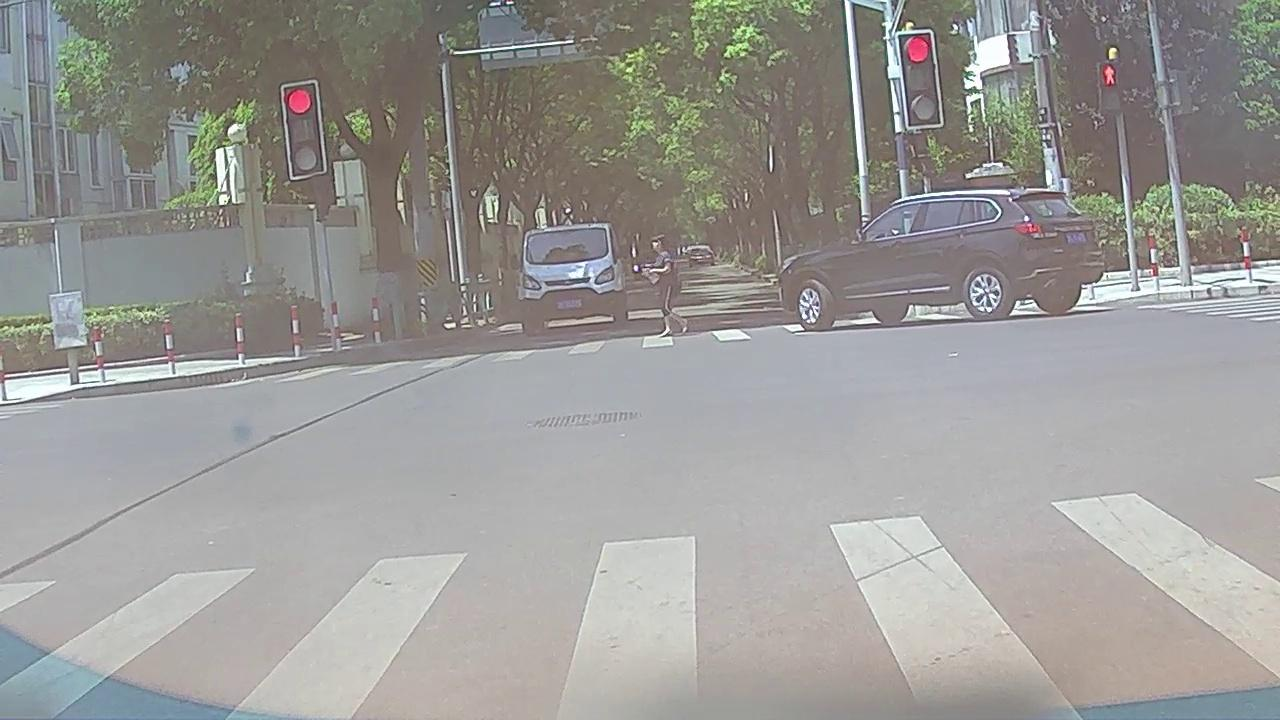traffic_light: (902, 34, 942, 127), (286, 83, 317, 174)
